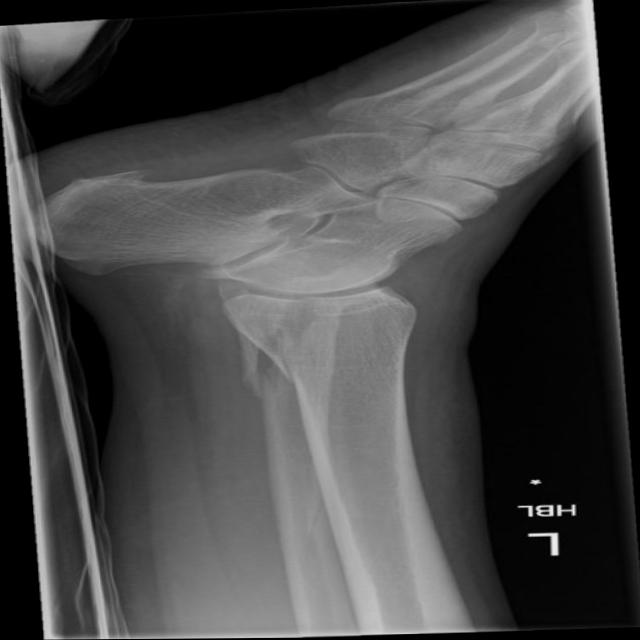Oblique Displaced: (206, 280, 332, 417)
